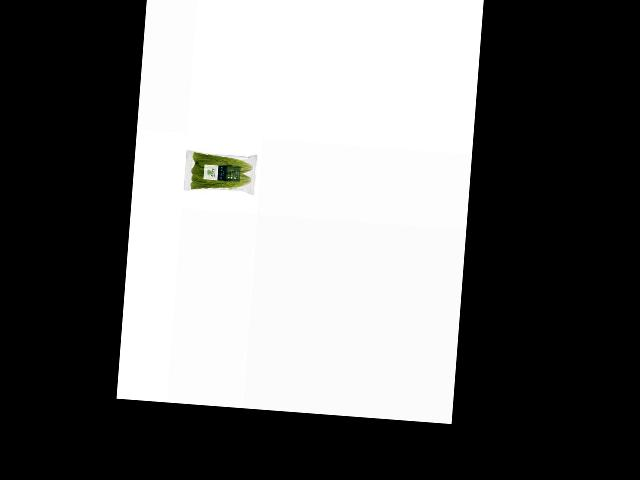lettuce: (188, 147, 254, 193)
